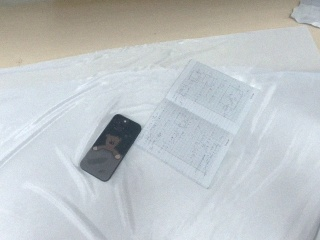phone: (79, 114, 142, 182)
